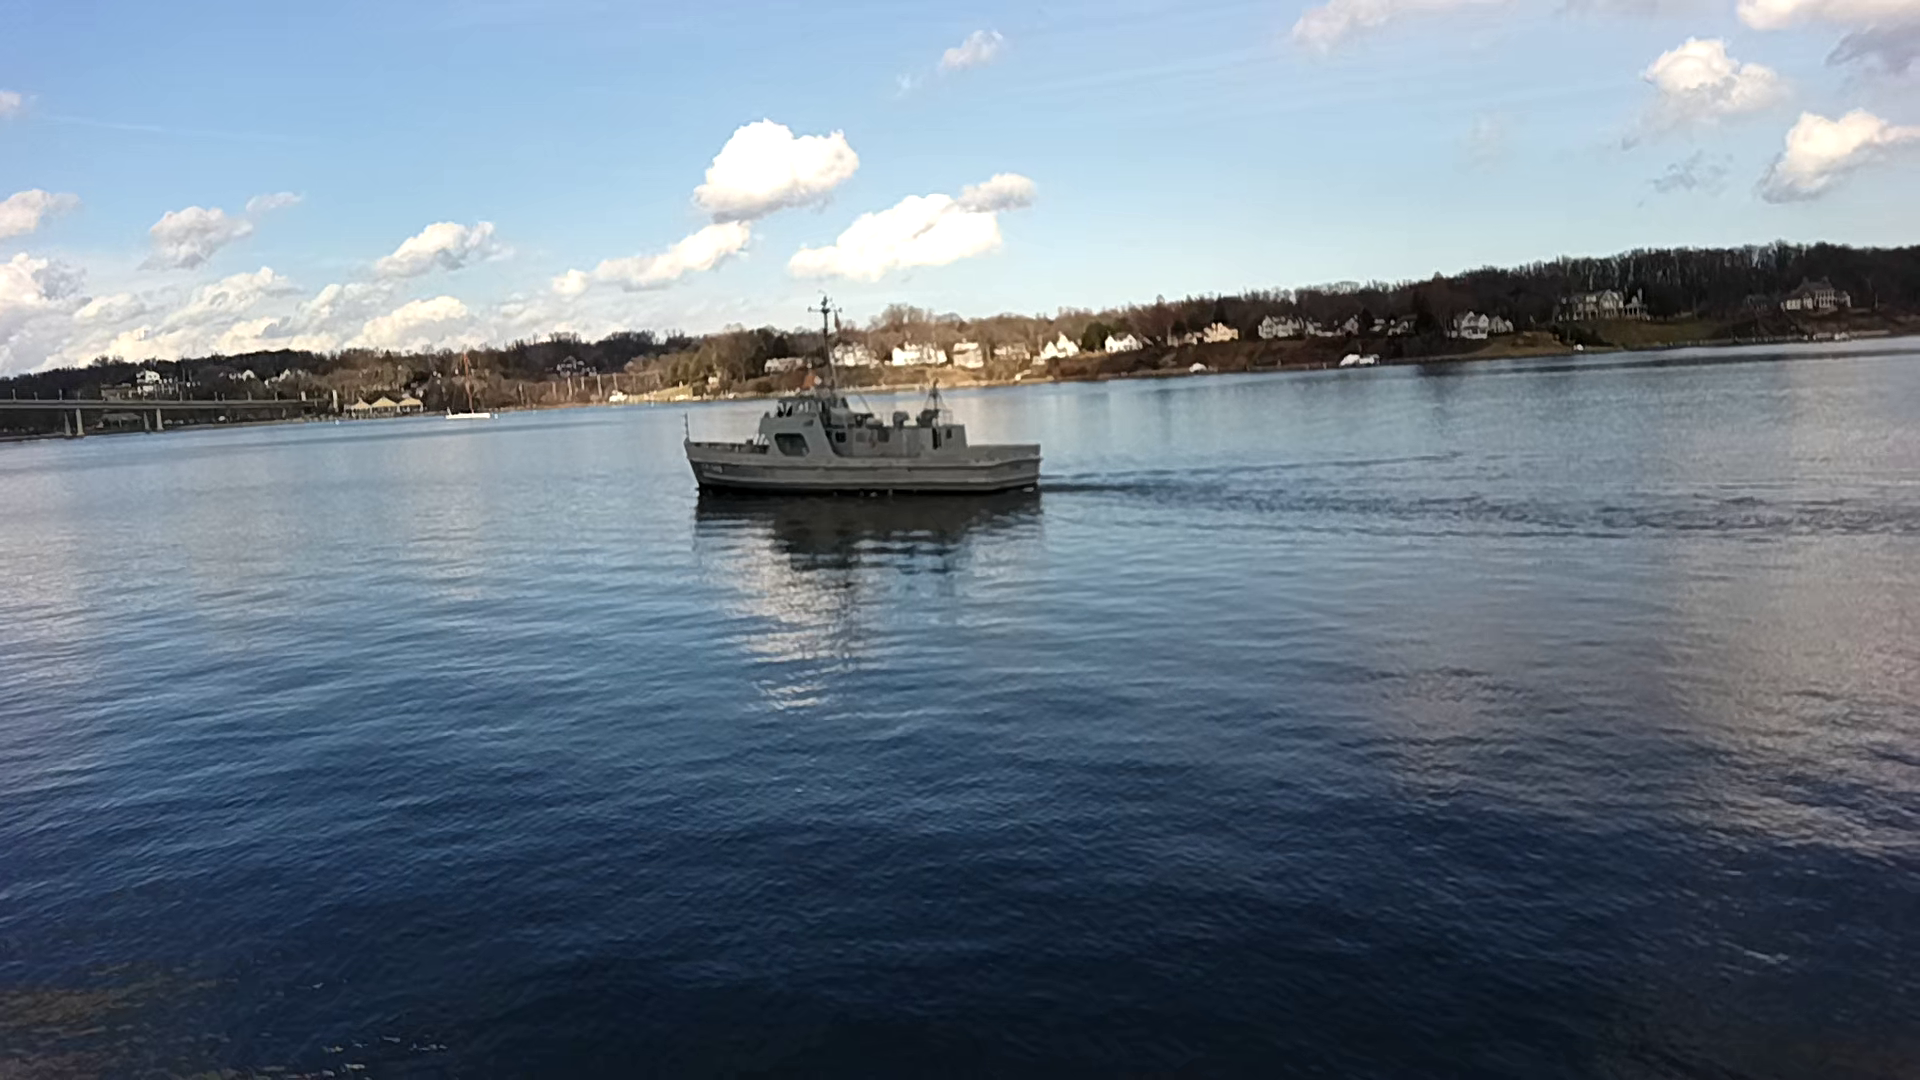YP689: (680, 294, 1044, 500)
